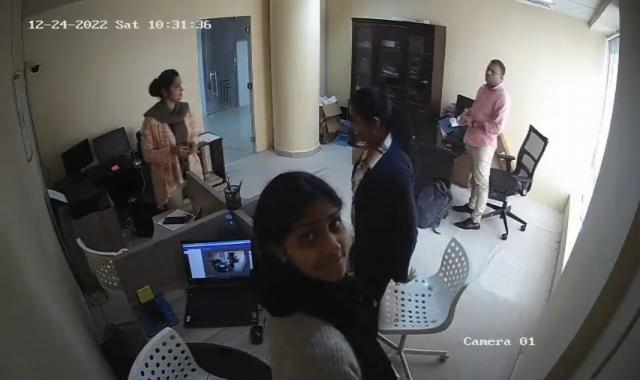no_hairnet: (258, 171, 354, 287), (339, 83, 394, 142), (147, 63, 186, 104), (483, 57, 505, 94)
